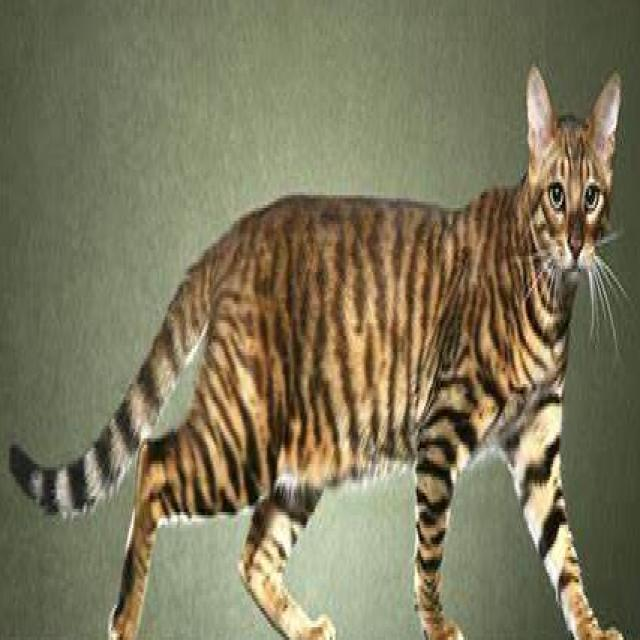Toyger: (2, 51, 630, 640)
